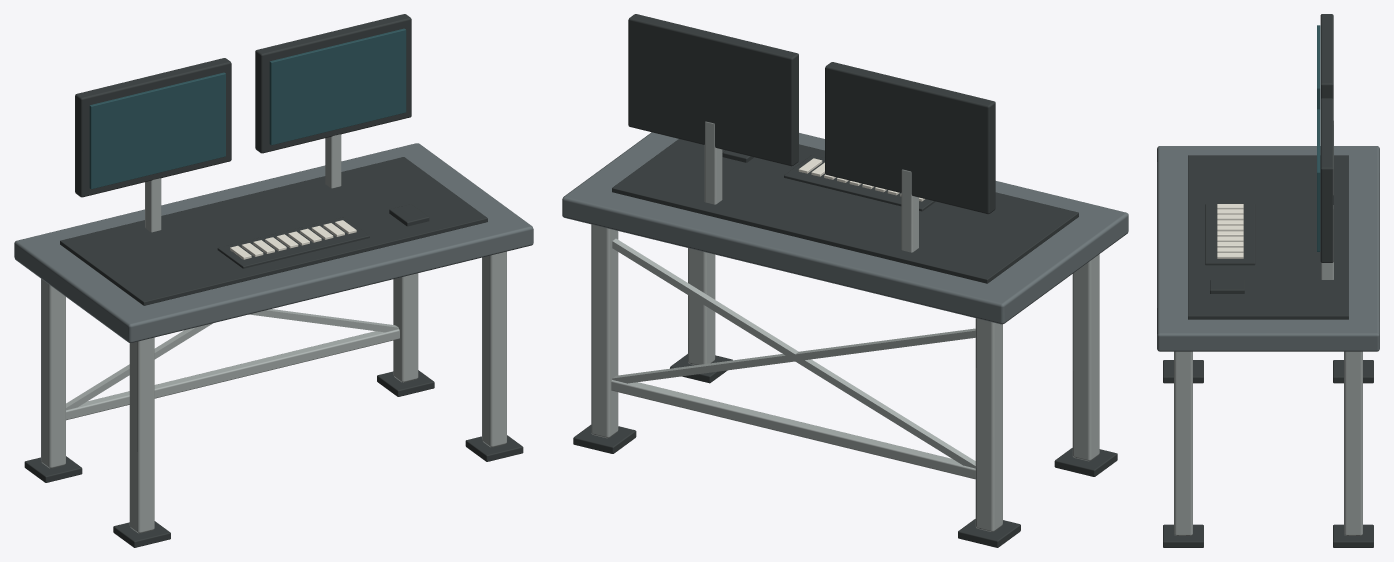
Rendered from automated-parking-and-vehicle-retrieval-automated-park-ee8aaf22__30377.glb.
The picture shows the model from 3 angles, left to right: view 1: azimuth 30°, elevation 25°; view 2: azimuth 150°, elevation 25°; view 3: azimuth 270°, elevation 25°; orthographic projection. The views are drawn at different scales.
Visible parts, largest first — view 1: automated-parking-and-vehicle-retrieval-operator-monitoring- (×5); view 2: automated-parking-and-vehicle-retrieval-operator-monitoring- (×3); view 3: automated-parking-and-vehicle-retrieval-operator-monitoring- (×5).
Part boxes in pixels (x1,y1,x2,y2): automated-parking-and-vehicle-retrieval-operator-monitoring- (×5): [14, 14, 533, 547]; automated-parking-and-vehicle-retrieval-operator-monitoring- (×3): [562, 14, 1128, 547]; automated-parking-and-vehicle-retrieval-operator-monitoring- (×5): [1157, 14, 1379, 547].
Bounding box in the file's own units: 1.53 × 1.38 × 0.76.
